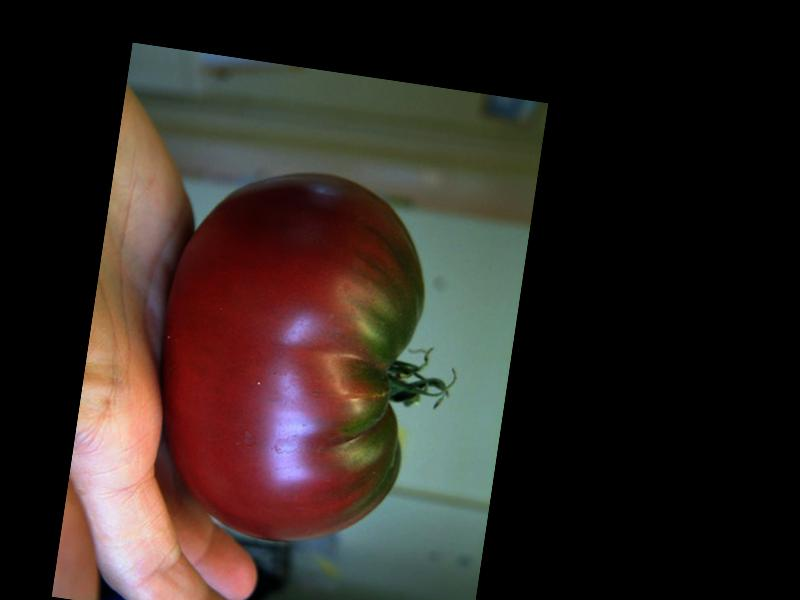Tomato: (136, 154, 441, 557)
